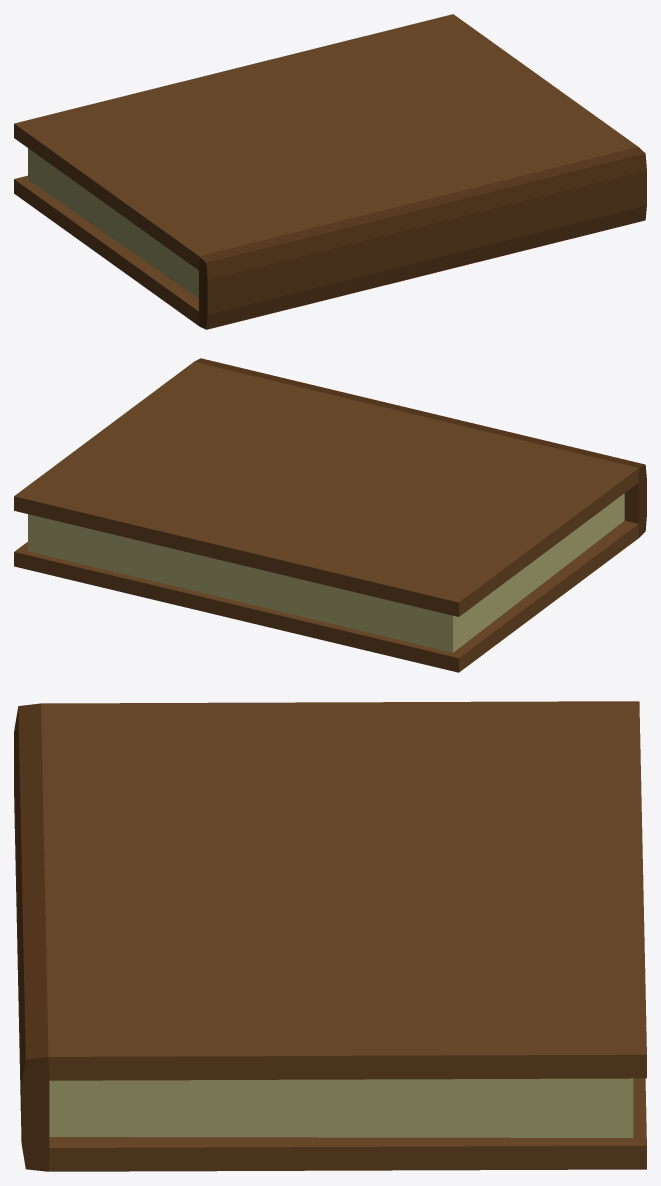
3 renders of one model, top to bottom at view 1: azimuth 30°, elevation 25°; view 2: azimuth 150°, elevation 25°; view 3: azimuth 270°, elevation 25°, orthographic. The views are drawn at different scales.
Parts seen in each view (by area): view 1: bp4; view 2: bp4; view 3: bp4.
Boxes of the visible parts, x1,y1,x2,y2 form: bp4: (14,14,646,329); bp4: (14,358,646,672); bp4: (14,701,646,1171).
Size of the model in its own units: 91.37 by 13.74 by 68.68.
